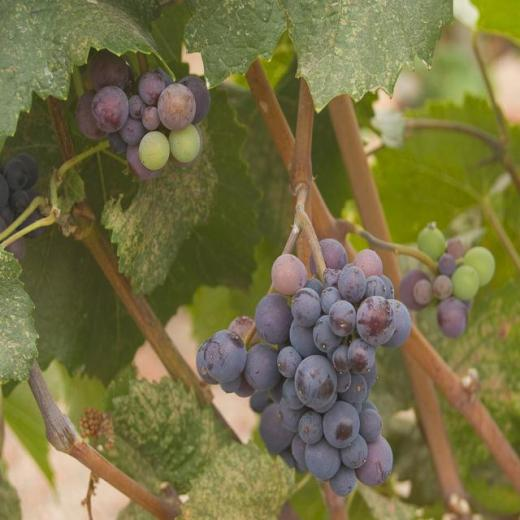Orange: (196, 238, 414, 498), (72, 50, 210, 179), (397, 223, 496, 340), (0, 155, 49, 258)
